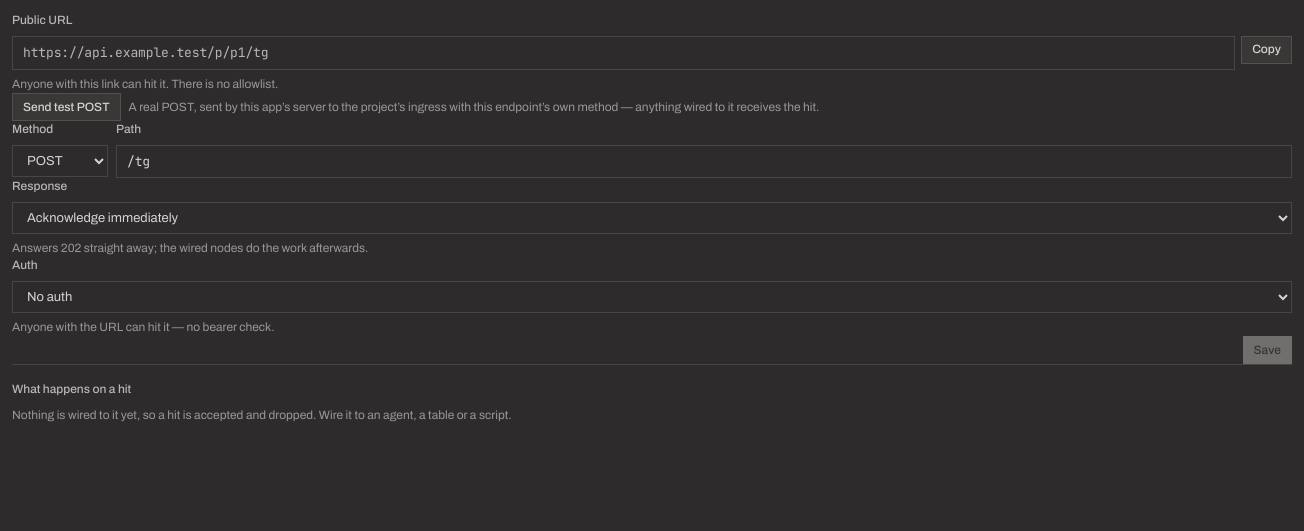
Test: testing the public URL › shows the status and body verbatim rather than a summary of them
Click the button with test id "btn-endpoint-test". click: (66,107)
box: [12,93,120,121]
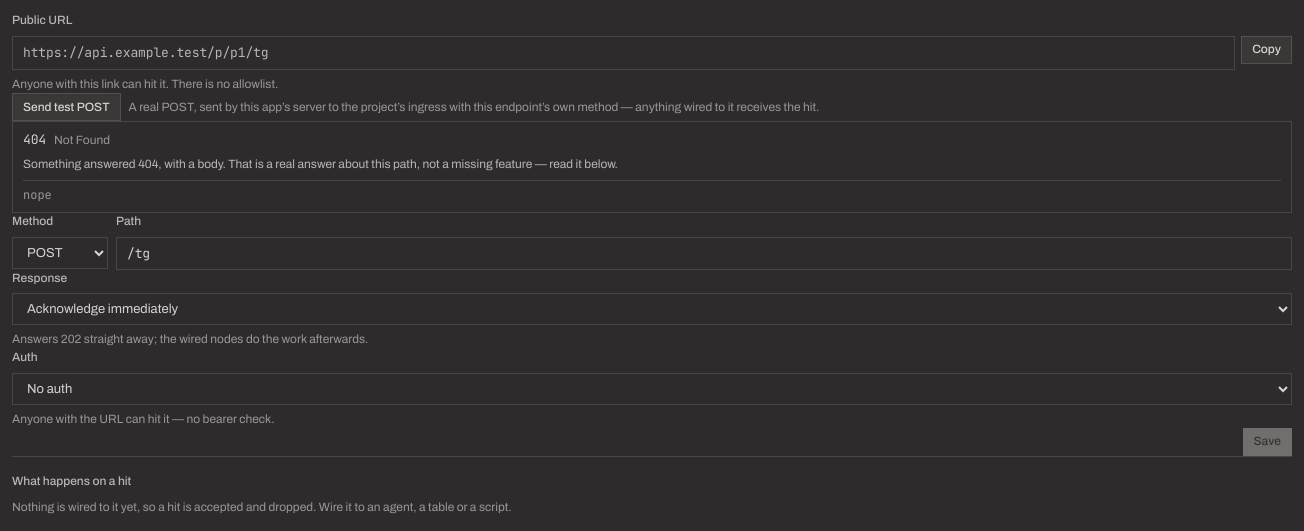
Check: the text with test id "endpoint-probe-status" reads "404", box [23,131,46,148]
Check: the text with test id "endpoint-probe-body" reads "nope", box [23,186,52,202]
